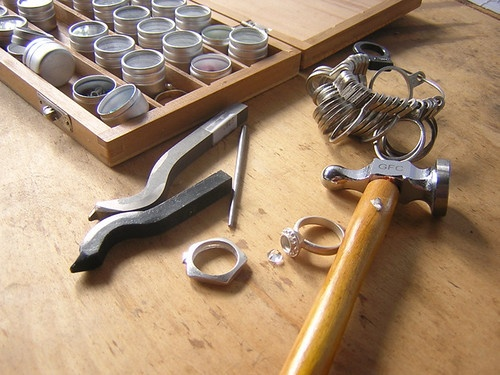hammer: (280, 158, 455, 375)
